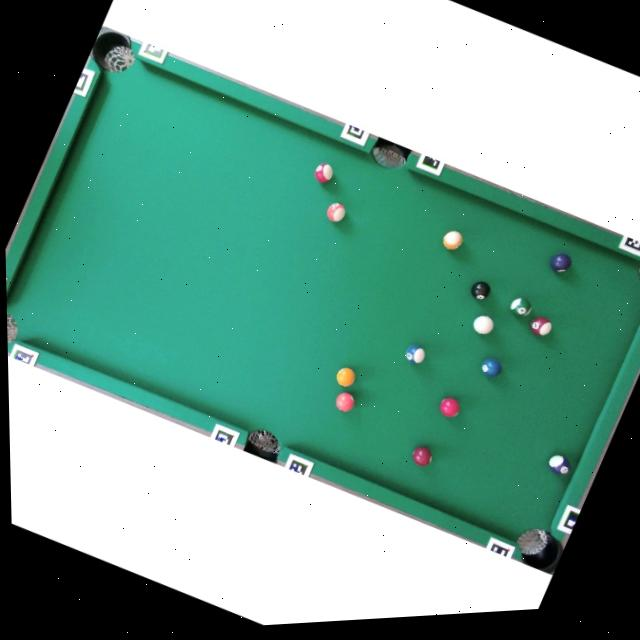cue ball: (471, 312, 496, 339)
other: (545, 451, 575, 480), (546, 248, 575, 277), (527, 313, 554, 340), (402, 341, 429, 368), (440, 226, 466, 254), (333, 364, 359, 391), (436, 394, 462, 421), (409, 443, 435, 470), (479, 355, 505, 381), (311, 160, 337, 186), (508, 294, 534, 320), (468, 277, 493, 304), (333, 389, 358, 415), (324, 200, 348, 226)
